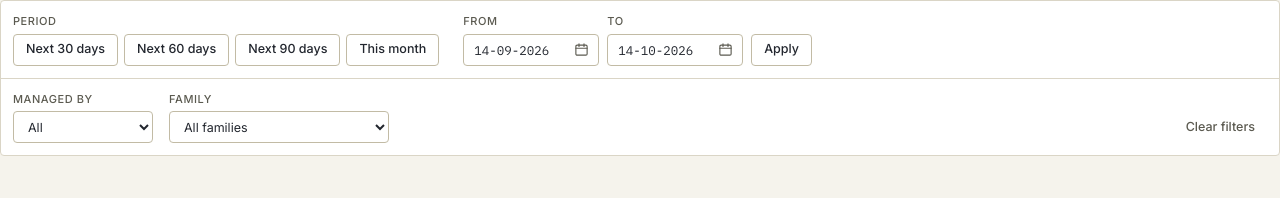
custom range validation › explains a date that cannot be read, and does not navigate
The width and height of the screenshot is (1280, 198).
Replace the text in the field labelled "From" with "31-02-2026" at coordinates (531, 50), box [463, 34, 599, 66]
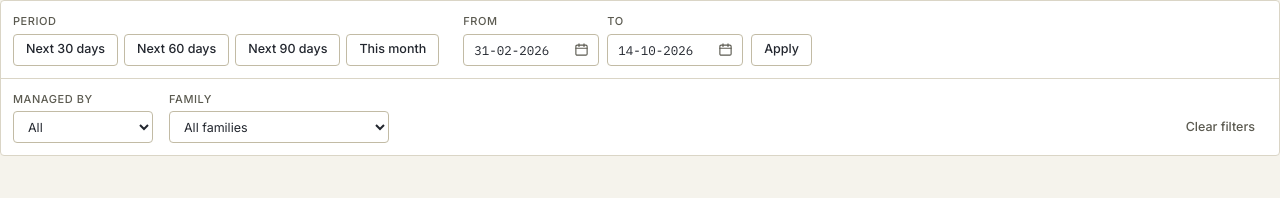
Click the button "Apply" at coordinates (782, 50), box [751, 34, 812, 66]
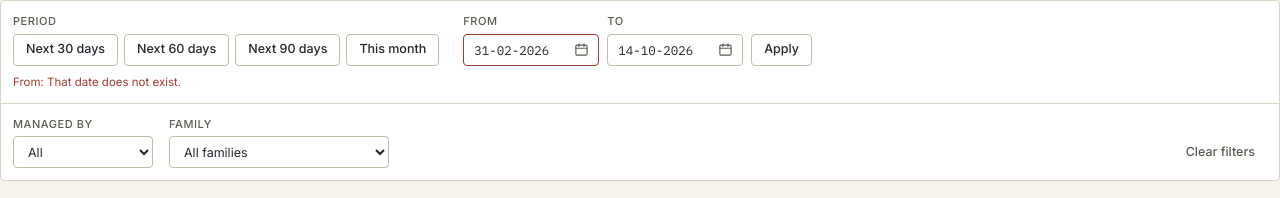
Expected: the message reads "From: That date does not exist.", [13, 74, 181, 88]
